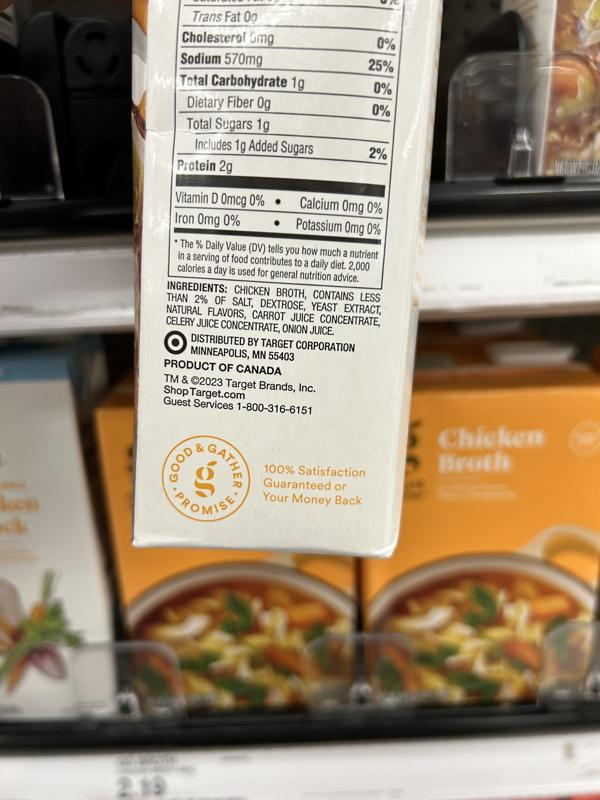ingredients: (163, 278, 385, 338)
